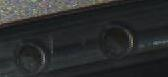joints: (95, 21, 137, 62), (13, 38, 50, 74)
